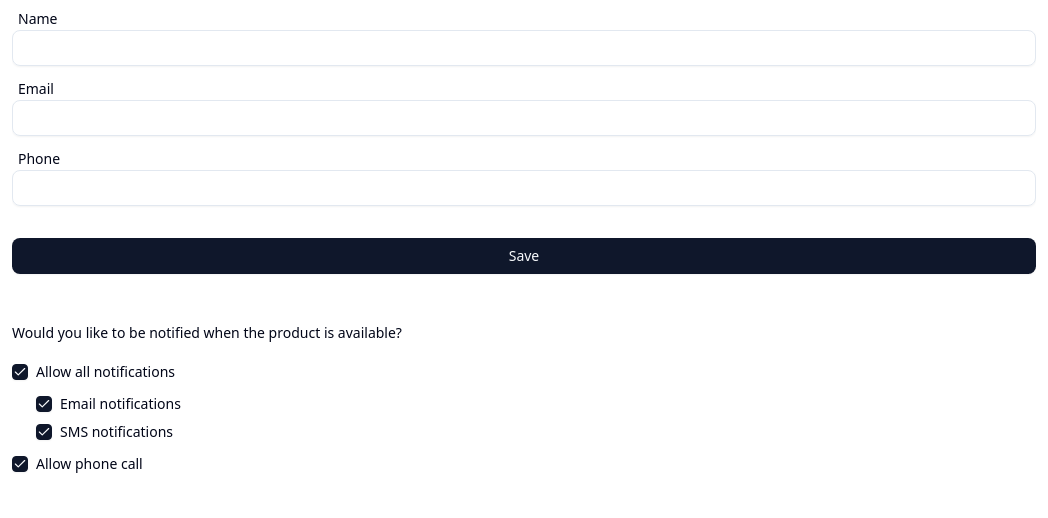
it: WaitListForm component tests › Success submission tests › should submit the form successfully when filled with valid data
In the field labelled "Name": (524, 48) [12, 30, 1036, 66], type "Gabriel"
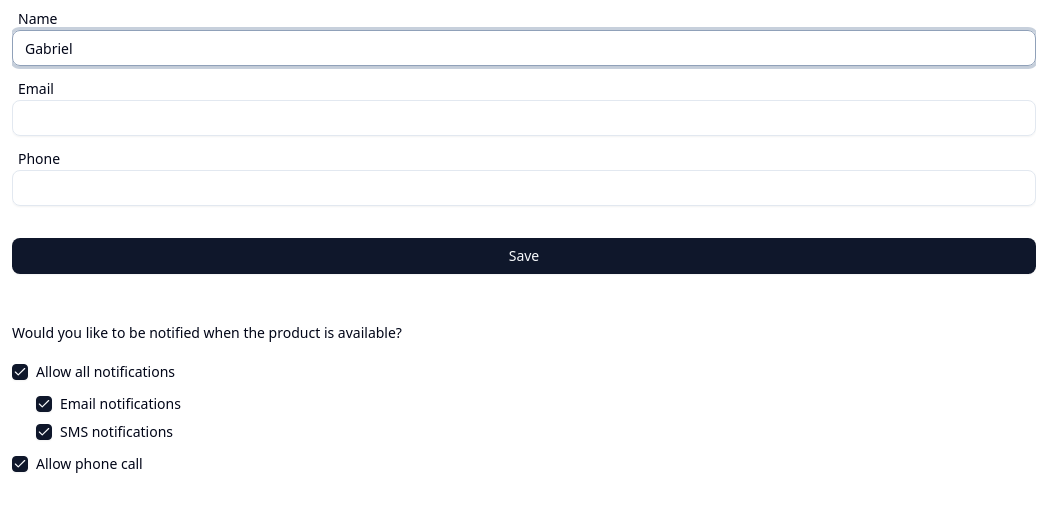
In the field labelled "Email": (524, 118) [12, 100, 1036, 136], type "gabriel@email.com"
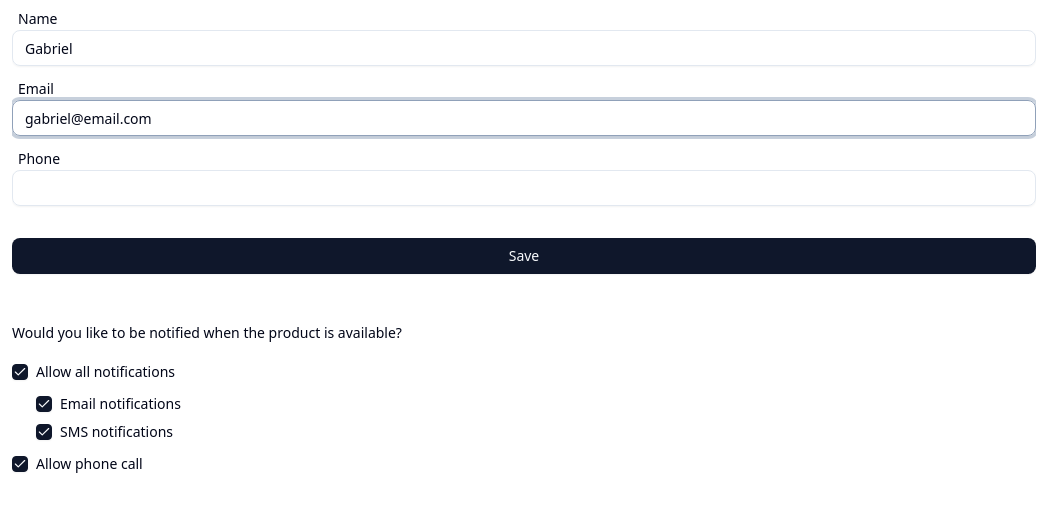
In the field labelled "Phone": (524, 188) [12, 170, 1036, 206], type "219888877776"
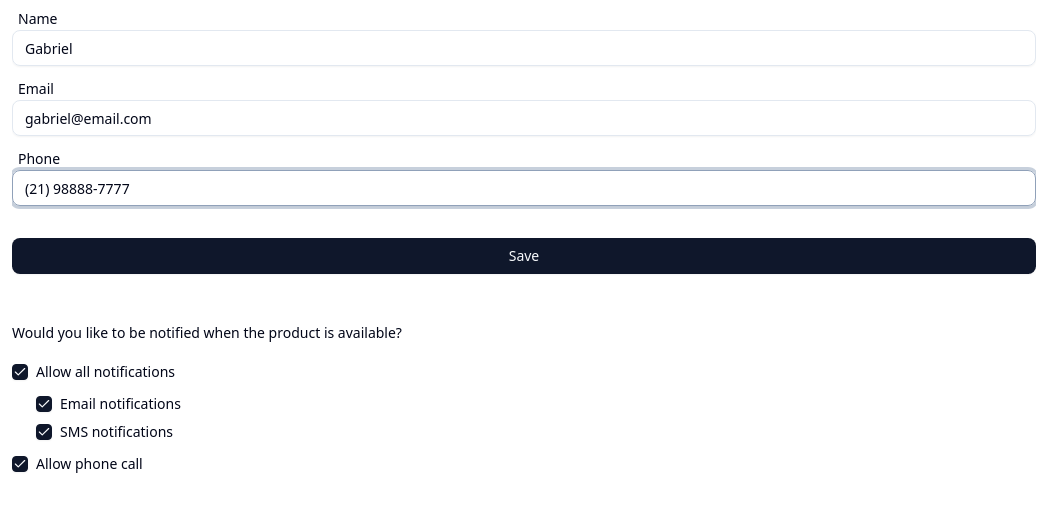
Note: form submission
Click the button: (524, 256) [12, 238, 1036, 274]
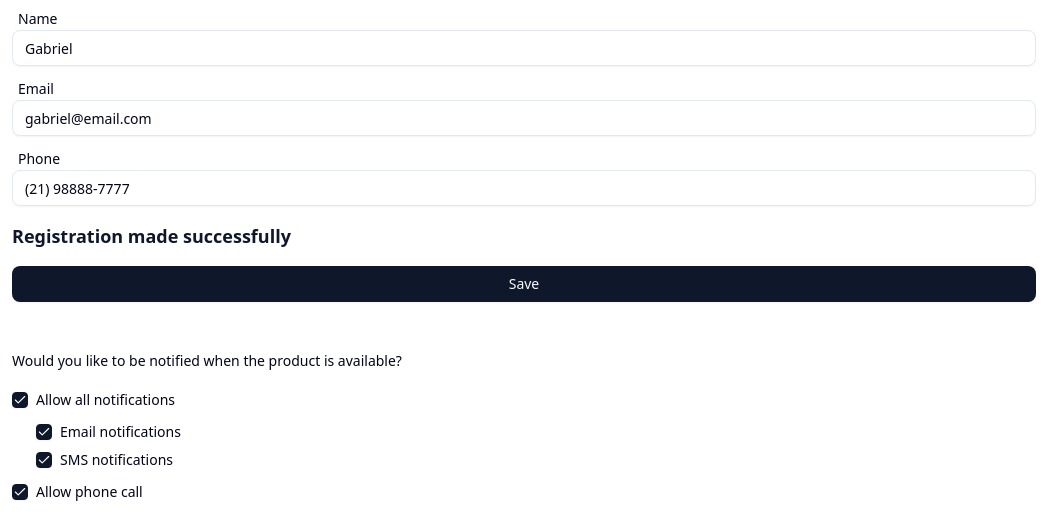
Now the text "Registration made successfully" is shown, box [12, 224, 291, 248]
